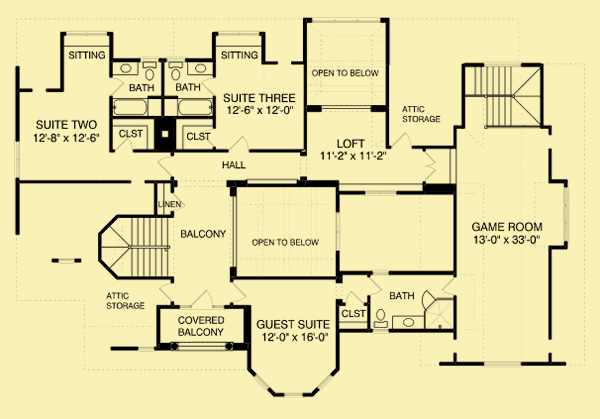door: (190, 289, 215, 310), (421, 151, 437, 180), (227, 281, 247, 303), (391, 131, 415, 149), (228, 136, 249, 155), (157, 155, 175, 177), (419, 287, 436, 310), (113, 138, 133, 155), (344, 289, 363, 306), (366, 277, 383, 295), (158, 280, 174, 299), (441, 276, 455, 296)
large_sink: (371, 308, 391, 329), (166, 60, 184, 83), (140, 62, 157, 81)
small_sink: (113, 59, 140, 77), (187, 60, 213, 75)
stairs: (99, 214, 173, 280), (465, 68, 542, 129)
tub: (113, 96, 149, 118), (174, 97, 213, 117)
window: (311, 15, 380, 26), (215, 26, 260, 39), (175, 341, 228, 352), (247, 175, 298, 186), (562, 186, 571, 242), (13, 139, 23, 180), (333, 209, 342, 252), (64, 30, 109, 38), (360, 189, 398, 197), (282, 390, 302, 399)
